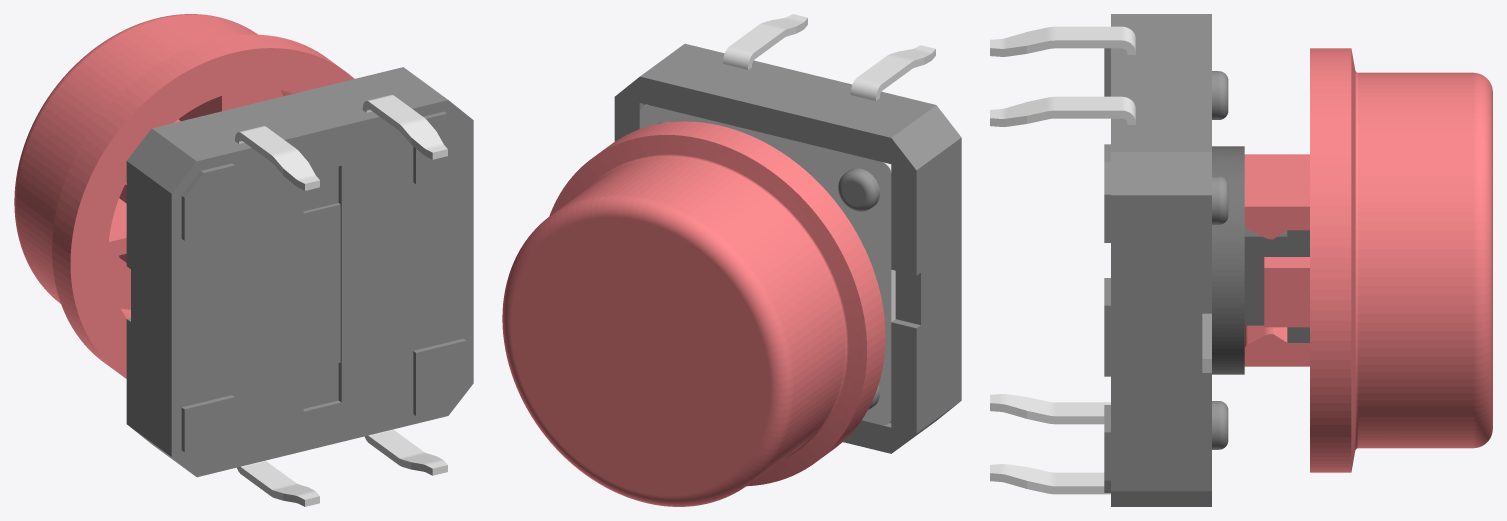
File: push_button.fbx
The picture shows the model from 3 angles, left to right: view 1: azimuth 30°, elevation 25°; view 2: azimuth 150°, elevation 25°; view 3: azimuth 270°, elevation 25°; orthographic projection. The views are drawn at different scales.
Visible parts, largest first — view 1: imagetostl_mesh1, imagetostl_mesh3, imagetostl_mesh0; view 2: imagetostl_mesh3, imagetostl_mesh1, imagetostl_mesh0; view 3: imagetostl_mesh3, imagetostl_mesh1, imagetostl_mesh0, imagetostl_mesh2.
Part boxes in pixels (x1,y1,x2,y2): imagetostl_mesh1: (126,67,473,477); imagetostl_mesh3: (14,14,354,378); imagetostl_mesh0: (235,95,447,506); imagetostl_mesh3: (502,121,885,506); imagetostl_mesh1: (614,43,961,453); imagetostl_mesh0: (639,14,935,425); imagetostl_mesh3: (1244,48,1492,472); imagetostl_mesh1: (1104,14,1228,506); imagetostl_mesh0: (990,26,1211,494); imagetostl_mesh2: (1212,146,1309,374).
Size of the model in its own units: 1300 by 1300 by 1540.
